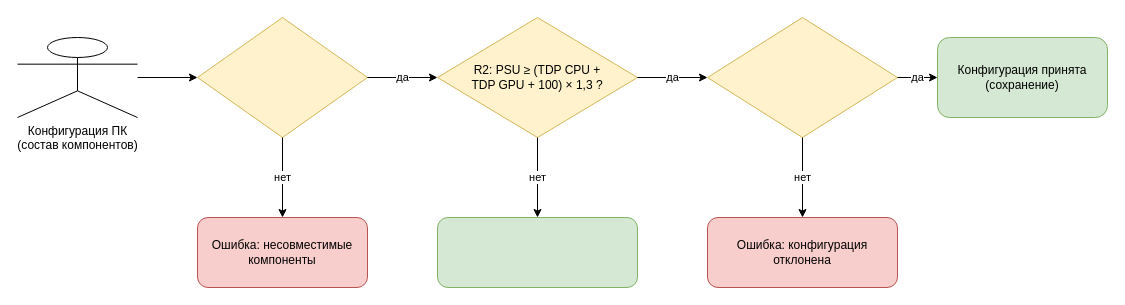
This 1125x305 diagram has some shape labels left out. The shapes that lost their labels are listed below. From the top down, each one's centre as x and y in pixels, then its label:
pixel 282 77: R1: сокет CPU = сокет платы?
pixel 802 77: R3: один компонент каждого типа?
pixel 537 252: Предупреждение: нужен более мощный блок
